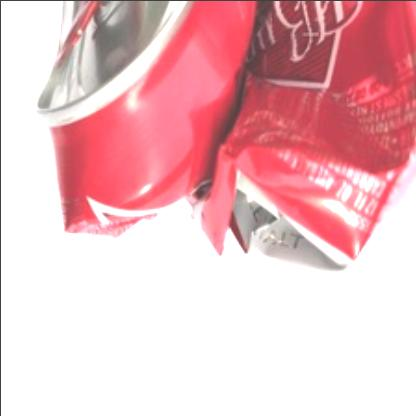Can: (30, 0, 416, 274)
